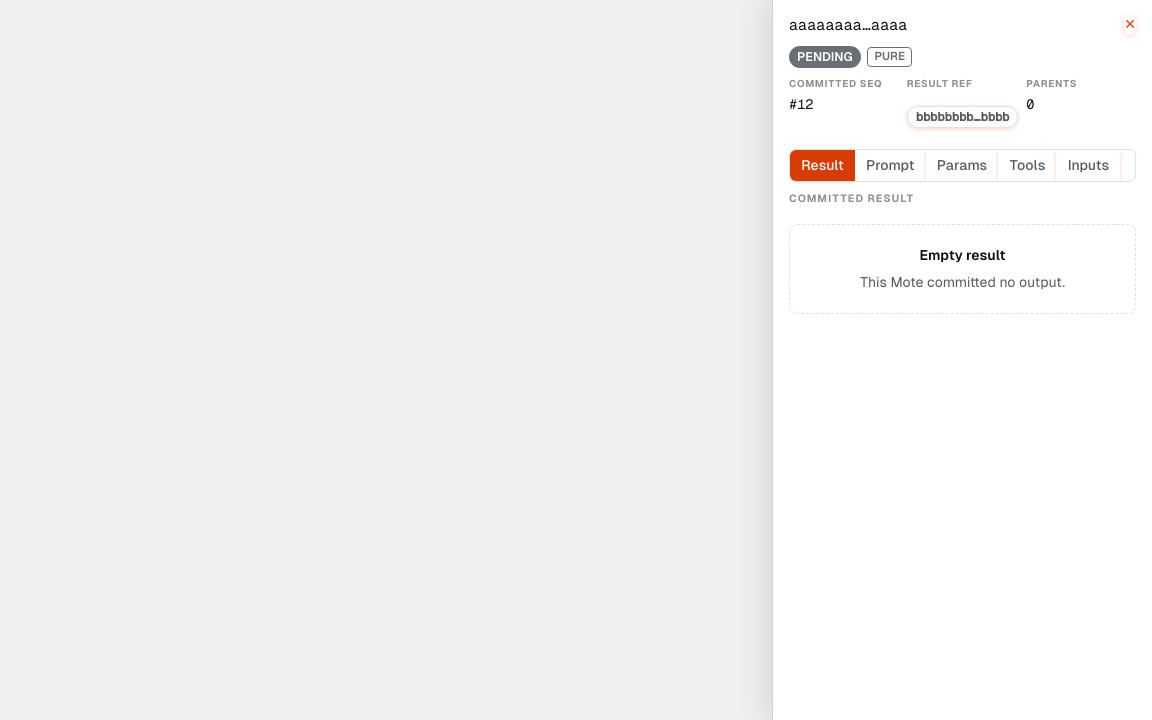
NodeDetailDrawer › a PENDING Mote's def panes stay commit-gated (no RPC)
The width and height of the screenshot is (1152, 720).
Click the button with test id "inspector-pane-prompt" at point(890, 165), box [855,150,926,181]
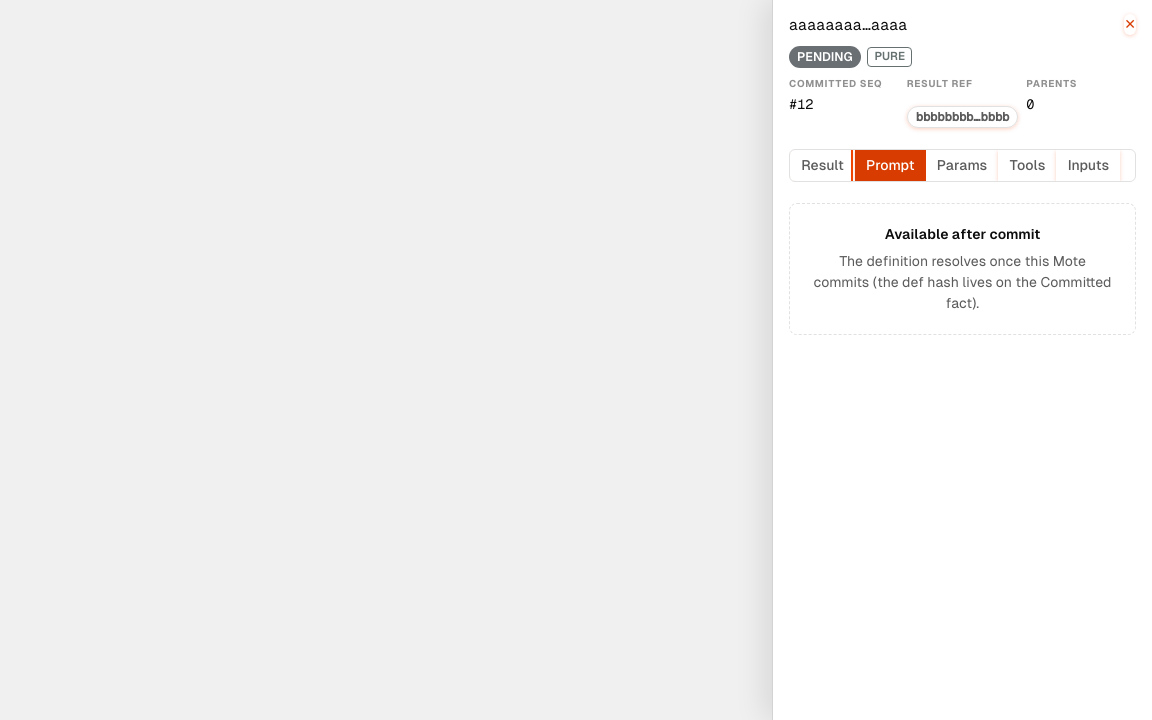
Check: the text "Available after commit" is shown, box [885,226,1040,242]
